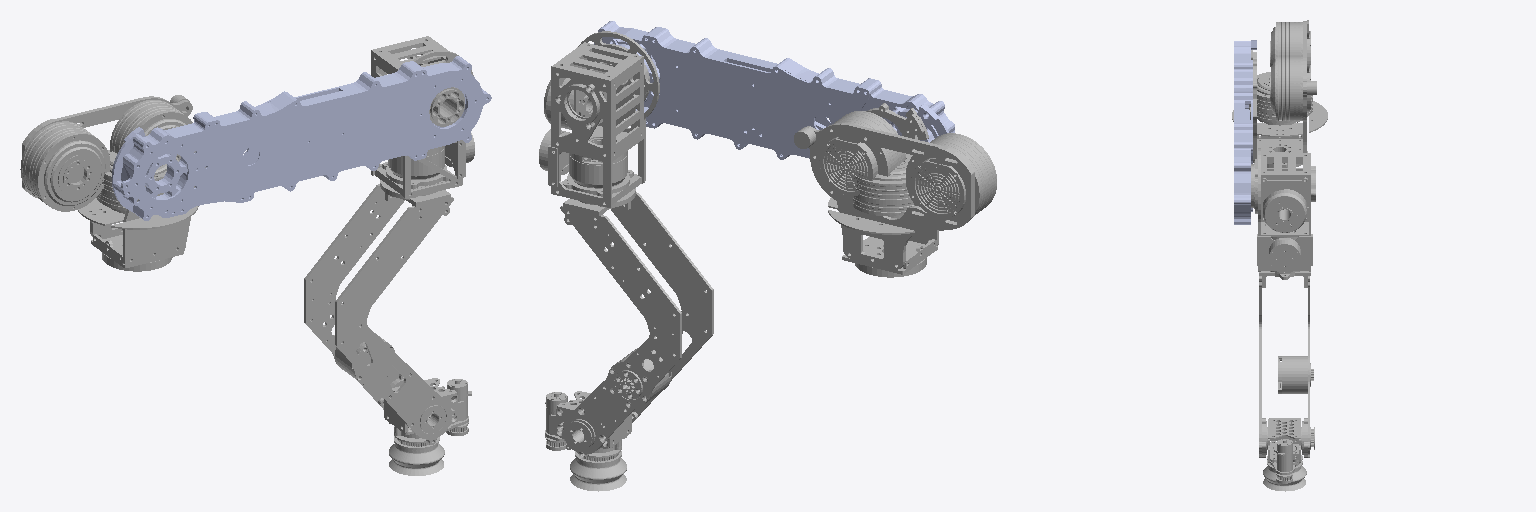
URDF robot description (arv_v1_model):
<?xml version="1.0" encoding="utf-8"?>
<!-- This URDF was automatically created by SolidWorks to URDF Exporter! Originally created by Stephen Brawner (brawner@gmail.com) 
     Commit Version: 1.6.0-4-g7f85cfe  Build Version: 1.6.7995.38578
     For more information, please see http://wiki.ros.org/sw_urdf_exporter -->
<robot
  name="arv_v1_model">
  <link
    name="base_link">
    <inertial>
      <origin
        xyz="4.06405754959603E-05 3.96062265211095E-05 -0.159587611333419"
        rpy="0 0 0" />
      <mass
        value="0.349525984991482" />
      <inertia
        ixx="0.000258629195167638"
        ixy="-5.10875001154551E-10"
        ixz="-9.72936642265161E-09"
        iyy="0.000258276357567582"
        iyz="-1.14928164144097E-08"
        izz="0.000395519919318191" />
    </inertial>
    <visual>
      <origin
        xyz="0 0 0"
        rpy="0 0 0" />
      <geometry>
        <mesh
          filename="package://arv_v1_model/meshes/base_link.STL" />
      </geometry>
      <material
        name="">
        <color
          rgba="0.752941176470588 0.752941176470588 0.752941176470588 1" />
      </material>
    </visual>
    <collision>
      <origin
        xyz="0 0 0"
        rpy="0 0 0" />
      <geometry>
        <mesh
          filename="package://arv_v1_model/meshes/base_link.STL" />
      </geometry>
    </collision>
  </link>
  <link
    name="link1_double8009">
    <inertial>
      <origin
        xyz="-0.0154999931131982 0.0079001 -0.02619997"
        rpy="1.5708 0 0" />
      <mass
        value="1.22525961510696" />
      <inertia
        ixx="0.001261183113"
        ixy="0.000000417221"
        ixz="-0.000009131998"
        iyy="0.002170050768"
        iyz="0.000001197587"
        izz="0.001324676961" />
    </inertial>
    <visual>
      <origin
        xyz="0.03215 0 0"
        rpy="1.5708 0 0" />
      <geometry>
        <mesh
          filename="package://arv_v1_model/meshes/link1_double8009.STL" />
      </geometry>
      <material
        name="">
        <color
          rgba="0.752941176470588 0.752941176470588 0.752941176470588 1" />
      </material>
    </visual>
    <collision>
      <origin
        xyz="0.03215 0 0"
        rpy="1.5708 0 0" />
      <geometry>
        <mesh
          filename="package://arv_v1_model/meshes/link1_double8009.STL" />
      </geometry>
    </collision>
  </link>
  <joint
    name="joint_1"
    type="revolute">
    <origin
      xyz="0 0 0"
      rpy="0 0 0" />
    <parent
      link="base_link" />
    <child
      link="link1_double8009" />
    <axis
      xyz="0 0 1" />
    <limit
      lower="-3.2"
      upper="3.2"
      effort="20"
      velocity="10.47" />
    <dynamics
      damping="0.1"
      friction="0.1" />
    <safety_controller
      soft_upper_limit="3.2"
      soft_lower_limit="-3.2"
      k_position="0"
      k_velocity="0" />
  </joint>
  <link
    name="link2_arm1">
    <inertial>
      <origin
        xyz="-0.207835302221211 -0.000992870986534305 0.0570377412581278"
        rpy="0 0 0" />
      <mass
        value="1.13036010199932" />
      <inertia
        ixx="0.00142587127922893"
        ixy="-2.22161961679192E-05"
        ixz="-6.82089241798511E-06"
        iyy="0.0161880134214926"
        iyz="-5.42767939874192E-06"
        izz="0.0175303272584084" />
    </inertial>
    <visual>
      <origin
        xyz="0.381 0 0"
        rpy="0 0 0" />
      <geometry>
        <mesh
          filename="package://arv_v1_model/meshes/link2_arm1.STL" />
      </geometry>
      <material
        name="">
        <color
          rgba="0.792156862745098 0.819607843137255 0.933333333333333 1" />
      </material>
    </visual>
    <collision>
      <origin
        xyz="0.381 0 0"
        rpy="0 0 0" />
      <geometry>
        <mesh
          filename="package://arv_v1_model/meshes/link2_arm1.STL" />
      </geometry>
    </collision>
  </link>
  <joint
    name="joint_2"
    type="revolute">
    <origin
      xyz="0 0 0"
      rpy="1.5708 0 0" />
    <parent
      link="link1_double8009" />
    <child
      link="link2_arm1" />
    <axis
      xyz="0 0 1" />
    <limit
      lower="-3.2"
      upper="3.2"
      effort="20"
      velocity="10.47" />
    <dynamics
      damping="0.1"
      friction="0.1" />
    <safety_controller
      soft_upper_limit="3.2"
      soft_lower_limit="-3.2"
      k_position="0"
      k_velocity="0" />
  </joint>
  <link
    name="link3_sight">
    <inertial>
      <origin
        xyz="0.0106080099260035 -0.0536251640173155 0.0110704875938024"
        rpy="0 0 0" />
      <mass
        value="1.2559864019946" />
      <inertia
        ixx="0.00105270273008462"
        ixy="1.9169565264512E-06"
        ixz="1.70978398702773E-06"
        iyy="0.000830969442918397"
        iyz="2.32834239073742E-05"
        izz="0.00111734642942268" />
    </inertial>
    <visual>
      <origin
        xyz="0 0 0"
        rpy="0 0 0" />
      <geometry>
        <mesh
          filename="package://arv_v1_model/meshes/link3_sight.STL" />
      </geometry>
      <material
        name="">
        <color
          rgba="0.752941176470588 0.752941176470588 0.752941176470588 1" />
      </material>
    </visual>
    <collision>
      <origin
        xyz="0 0 0"
        rpy="0 0 0" />
      <geometry>
        <mesh
          filename="package://arv_v1_model/meshes/link3_sight.STL" />
      </geometry>
    </collision>
  </link>
  <joint
    name="joint_3"
    type="revolute">
    <origin
      xyz="0.381999999999996 0 -0.00719999999911157"
      rpy="0 0 0" />
    <parent
      link="link2_arm1" />
    <child
      link="link3_sight" />
    <axis
      xyz="0 0 -1" />
    <limit
      lower="-3.2"
      upper="3.2"
      effort="20"
      velocity="10.47" />
    <dynamics
      damping="0.1"
      friction="0.1" />
    <safety_controller
      soft_upper_limit="3.2"
      soft_lower_limit="-3.2"
      k_position="0"
      k_velocity="0" />
  </joint>
  <link
    name="link4_arm2">
    <inertial>
      <origin
        xyz="-0.0471747665346284 0.116147879122604 -0.00314898868309329"
        rpy="0 0 0" />
      <mass
        value="0.406159969500003" />
      <inertia
        ixx="0.00241397711452733"
        ixy="0.000109490600170552"
        ixz="-4.82806684024964E-08"
        iyy="0.000511634585525191"
        iyz="1.62319990296964E-07"
        izz="0.0029237195208925" />
    </inertial>
    <visual>
      <origin
        xyz="0 0 0"
        rpy="0 0 0" />
      <geometry>
        <mesh
          filename="package://arv_v1_model/meshes/link4_arm2.STL" />
      </geometry>
      <material
        name="">
        <color
          rgba="0.752941176470588 0.752941176470588 0.752941176470588 1" />
      </material>
    </visual>
    <collision>
      <origin
        xyz="0 0 0"
        rpy="0 0 0" />
      <geometry>
        <mesh
          filename="package://arv_v1_model/meshes/link4_arm2.STL" />
      </geometry>
    </collision>
  </link>
  <joint
    name="joint_4"
    type="revolute">
    <origin
      xyz="0 -0.418000000000065 0"
      rpy="0 0 0" />
    <parent
      link="link3_sight" />
    <child
      link="link4_arm2" />
    <axis
      xyz="0 -1 0" />
    <limit
      lower="-3.2"
      upper="3.2"
      effort="1.2"
      velocity="13.8" />
    <dynamics
      damping="0.1"
      friction="0.1" />
    <safety_controller
      soft_upper_limit="3.2"
      soft_lower_limit="-3.2"
      k_position="0"
      k_velocity="0" />
  </joint>
  <link
    name="link5_4310pitch">
    <inertial>
      <origin
        xyz="0.014937604120865 0.00443879636347264 0.00729204014938473"
        rpy="0 0 0" />
      <mass
        value="0.145781968714655" />
      <inertia
        ixx="2.16256229288805E-05"
        ixy="-9.21291007345439E-08"
        ixz="-6.09796294548116E-07"
        iyy="4.96762402972851E-05"
        iyz="-5.03475756685659E-10"
        izz="5.55815571281815E-05" />
    </inertial>
    <visual>
      <origin
        xyz="0 0 0"
        rpy="0 0 0" />
      <geometry>
        <mesh
          filename="package://arv_v1_model/meshes/link5_4310pitch.STL" />
      </geometry>
      <material
        name="">
        <color
          rgba="0.752941176470588 0.752941176470588 0.752941176470588 1" />
      </material>
    </visual>
    <collision>
      <origin
        xyz="0 0 0"
        rpy="0 0 0" />
      <geometry>
        <mesh
          filename="package://arv_v1_model/meshes/link5_4310pitch.STL" />
      </geometry>
    </collision>
  </link>
  <joint
    name="joint_5"
    type="revolute">
    <origin
      xyz="0 0 0"
      rpy="1.57079632679523 0 0" />
    <parent
      link="link4_arm2" />
    <child
      link="link5_4310pitch" />
    <axis
      xyz="0 1 0" />
    <limit
      lower="-3.2"
      upper="3.2"
      effort="7"
      velocity="10.47" />
    <dynamics
      damping="0.1"
      friction="0.1" />
    <safety_controller
      soft_upper_limit="3.2"
      soft_lower_limit="-3.2"
      k_position="0"
      k_velocity="0" />
  </joint>
  <link
    name="link6_2006roll">
    <inertial>
      <origin
        xyz="-2.23154827949656E-14 5.10702591327572E-15 -0.0119546936603161"
        rpy="0 0 0" />
      <mass
        value="0.114376166812813" />
      <inertia
        ixx="2.33675461159006E-05"
        ixy="-6.77008334816112E-14"
        ixz="3.01235029450962E-18"
        iyy="2.33675461861855E-05"
        iyz="-2.85317557316216E-19"
        izz="4.03700299739344E-05" />
    </inertial>
    <visual>
      <origin
        xyz="0 0 0"
        rpy="0 0 0" />
      <geometry>
        <mesh
          filename="package://arv_v1_model/meshes/link6_2006roll.STL" />
      </geometry>
      <material
        name="">
        <color
          rgba="0.752941176470588 0.752941176470588 0.752941176470588 1" />
      </material>
    </visual>
    <collision>
      <origin
        xyz="0 0 0"
        rpy="0 0 0" />
      <geometry>
        <mesh
          filename="package://arv_v1_model/meshes/link6_2006roll.STL" />
      </geometry>
    </collision>
  </link>
  <joint
    name="joint_6"
    type="revolute">
    <origin
      xyz="0 0 0.0518000000000047"
      rpy="0 0 -1.57079632679448" />
    <parent
      link="link5_4310pitch" />
    <child
      link="link6_2006roll" />
    <axis
      xyz="0 0 -1" />
    <limit
      lower="-3.2"
      upper="3.2"
      effort="1"
      velocity="10.47" />
    <dynamics
      damping="0.1"
      friction="0.1" />
    <safety_controller
      soft_upper_limit="3.2"
      soft_lower_limit="-3.2"
      k_position="0"
      k_velocity="0" />
  </joint>

  <!-- Gazebo 关节配置：启用力矩控制 -->
  <gazebo reference="joint_1">
    <implicitSpringDamper>false</implicitSpringDamper>
    <provideFeedback>true</provideFeedback>
  </gazebo>
  <gazebo reference="joint_2">
    <implicitSpringDamper>false</implicitSpringDamper>
    <provideFeedback>true</provideFeedback>
  </gazebo>
  <gazebo reference="joint_3">
    <implicitSpringDamper>false</implicitSpringDamper>
    <provideFeedback>true</provideFeedback>
  </gazebo>
  <gazebo reference="joint_4">
    <implicitSpringDamper>false</implicitSpringDamper>
    <provideFeedback>true</provideFeedback>
  </gazebo>
  <gazebo reference="joint_5">
    <implicitSpringDamper>false</implicitSpringDamper>
    <provideFeedback>true</provideFeedback>
  </gazebo>
  <gazebo reference="joint_6">
    <implicitSpringDamper>false</implicitSpringDamper>
    <provideFeedback>true</provideFeedback>
  </gazebo>

  <!-- 固定底座到世界坐标系，防止机械臂倒下 -->
  <link name="world"/>
  
  <joint name="world_fixed" type="fixed">
    <parent link="world"/>
    <child link="base_link"/>
    <origin xyz="0 0 0.35" rpy="0 0 0"/>    
  </joint>

</robot>

--- Render facts (derived) ---
3 views of the same robot in one strip: view 1: azimuth 30°, elevation 25°; view 2: azimuth 150°, elevation 25°; view 3: azimuth 270°, elevation 25° (orthographic).
Model arv_v1_model with 8 links and 7 joints (6 revolute, 1 fixed), rooted at world, posed every joint at zero.
Visible links, largest first — view 1: link2_arm1, link4_arm2, link1_double8009, link3_sight, link5_4310pitch, link6_2006roll, base_link; view 2: link1_double8009, link2_arm1, link4_arm2, link3_sight, base_link, link6_2006roll, link5_4310pitch; view 3: link3_sight, link1_double8009, link2_arm1, link4_arm2, link5_4310pitch, base_link, link6_2006roll.
Boxes of the visible links, x1,y1,x2,y2 form: link2_arm1: (111,56,491,220); link4_arm2: (304,184,456,444); link1_double8009: (20,95,205,271); link3_sight: (371,36,474,216); link5_4310pitch: (384,378,471,438); link6_2006roll: (389,417,444,475); base_link: (96,150,178,213); link1_double8009: (794,103,996,277); link2_arm1: (594,21,954,159); link4_arm2: (557,192,713,458); link3_sight: (539,31,659,226); base_link: (853,153,915,217); link6_2006roll: (570,449,626,491); link5_4310pitch: (545,391,631,452); link3_sight: (1251,148,1315,287); link1_double8009: (1232,20,1327,167); link2_arm1: (1234,40,1256,224); link4_arm2: (1259,276,1314,457); link5_4310pitch: (1267,418,1300,483); base_link: (1249,72,1312,125); link6_2006roll: (1263,445,1306,491).
Size in the robot's own frame: 0.5919 by 0.1449 by 0.5495 metres.
7 mesh visuals loaded from 7 distinct referenced files (7 binary STL).
